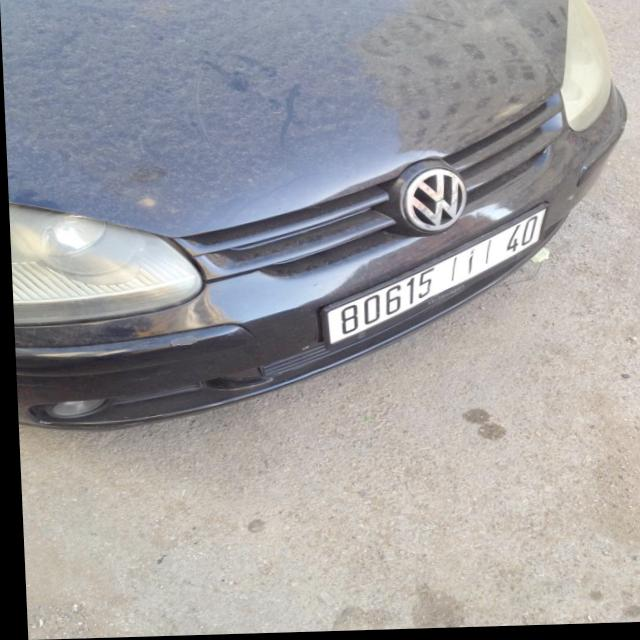License-Plate: (323, 213, 543, 345)
